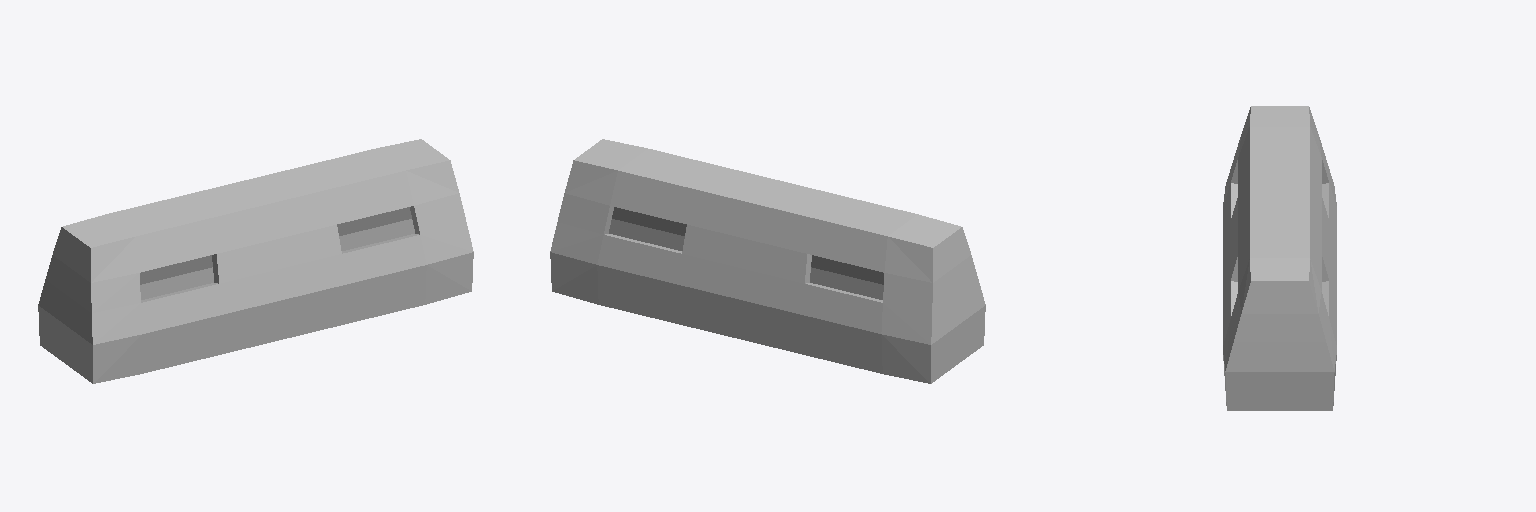
File: barricade.obj
The picture shows the model from 3 angles: view 1: azimuth 30°, elevation 25°; view 2: azimuth 150°, elevation 25°; view 3: azimuth 270°, elevation 25°; orthographic projection.
Size of the model in its own units: 5.34 by 1.7 by 1.39.